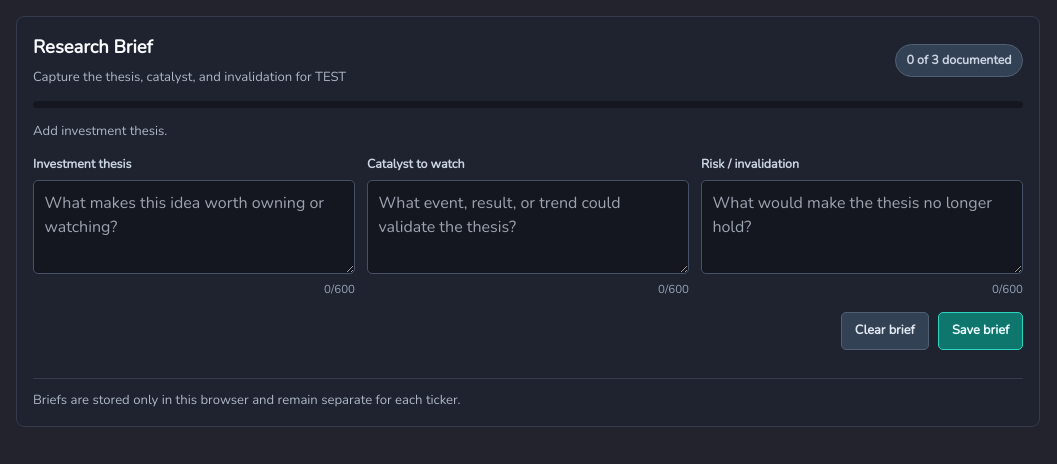
Scenario: StockResearchBrief › persists a complete brief for the current ticker
Type "Earnings compounder" into the text box labelled "Investment thesis". click: (194, 227)
box: [33,180,355,274]
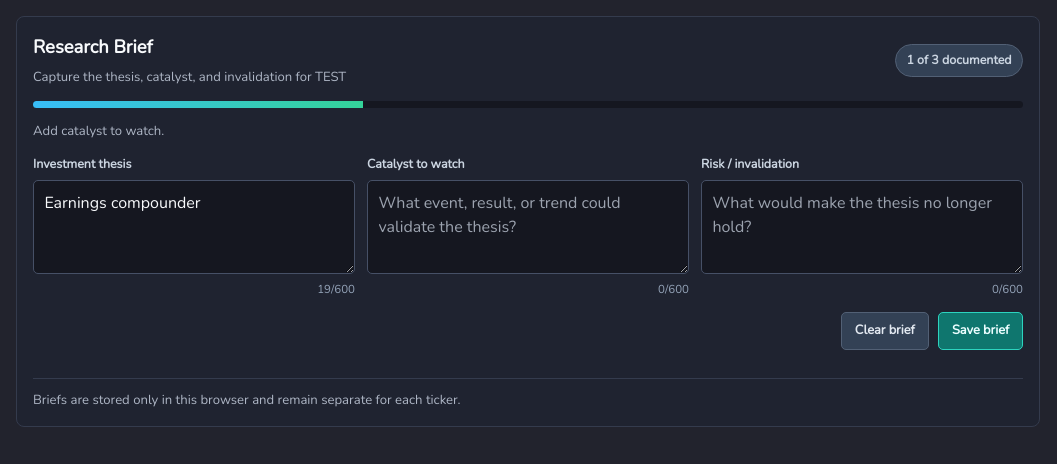
Type "Margin expansion" into the text box labelled "Catalyst to watch". click: (528, 227)
box: [367,180,689,274]
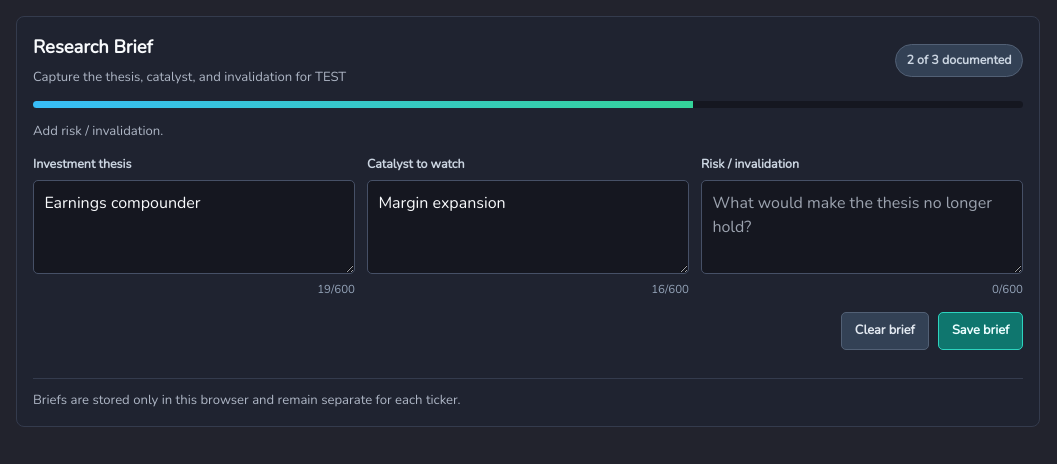
Type "Revenue stalls" into the text box labelled "Risk / invalidation". click: (862, 227)
box: [701,180,1023,274]
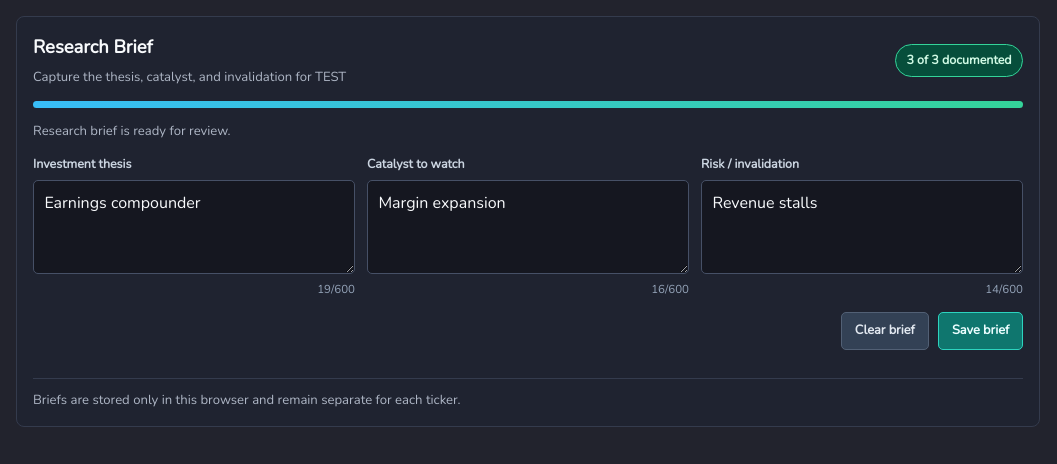
Click the button "Save brief". click: (981, 331)
box: [938,312,1023,350]
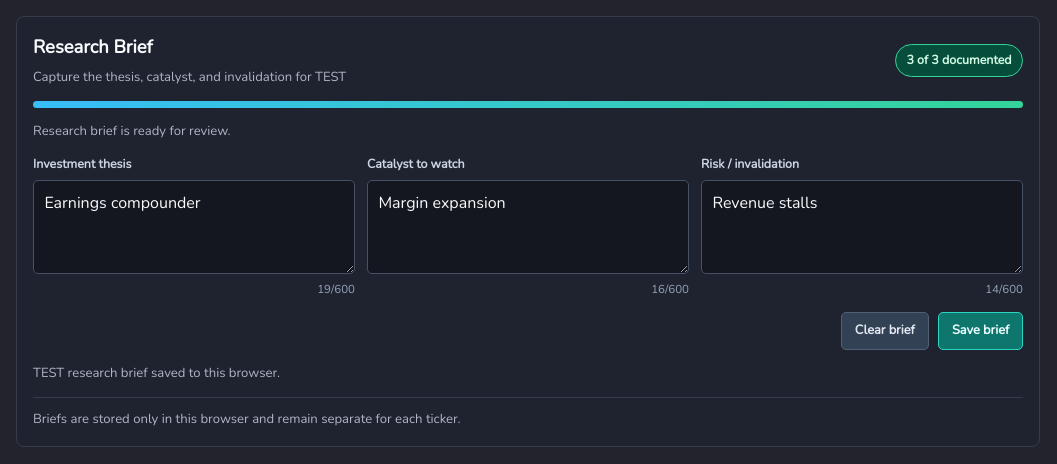
Check: the text "3 of 3 documented" is shown, box [895,44,1023,77]
Check: the text "TEST research brief saved to this browser." is shown, box [33,364,280,382]
